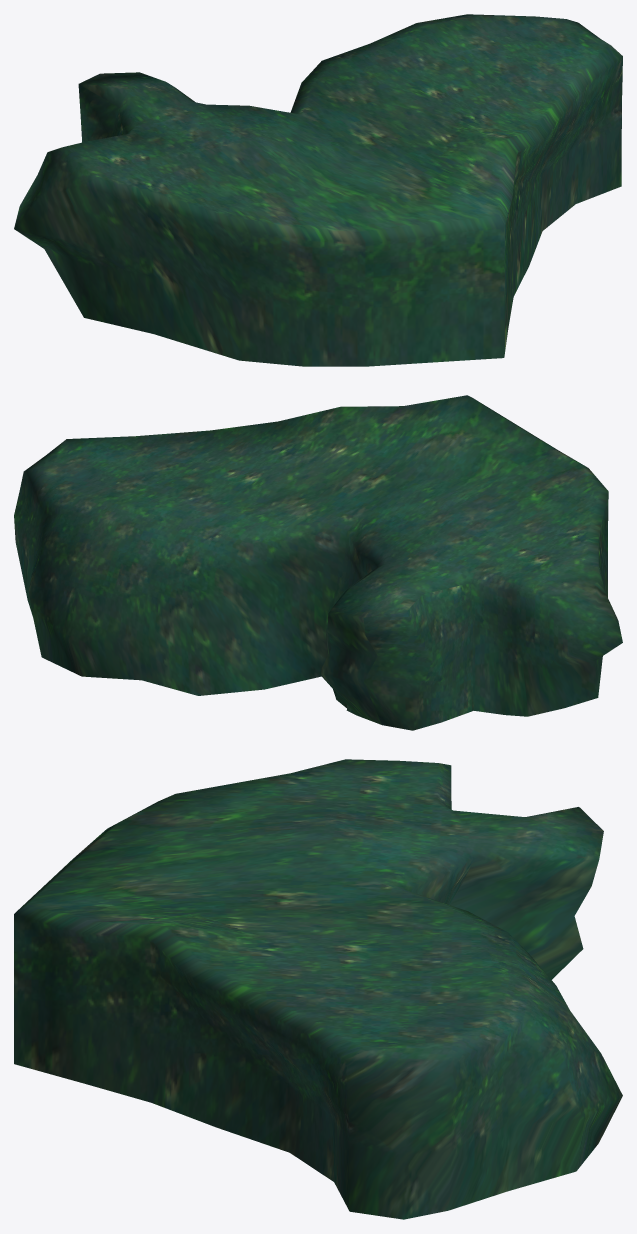
The model's file is MIRKWOOD_MIRK_PLAYSURFACE12.fbx.
The picture shows the model from 3 angles, top to bottom: view 1: azimuth 30°, elevation 25°; view 2: azimuth 150°, elevation 25°; view 3: azimuth 270°, elevation 25°; orthographic projection. The views are drawn at different scales.
Parts seen in each view (by area): view 1: MIRKWOOD_MIRK_PLAYSURFACE12; view 2: MIRKWOOD_MIRK_PLAYSURFACE12; view 3: MIRKWOOD_MIRK_PLAYSURFACE12.
Boxes of the visible parts, box(x1,y1,x2,y2) form: MIRKWOOD_MIRK_PLAYSURFACE12: box(14, 14, 622, 366); MIRKWOOD_MIRK_PLAYSURFACE12: box(14, 395, 622, 730); MIRKWOOD_MIRK_PLAYSURFACE12: box(14, 759, 622, 1219).
Size of the model in its own units: 117486 by 32582 by 89847.
1 material, 1 textured.
